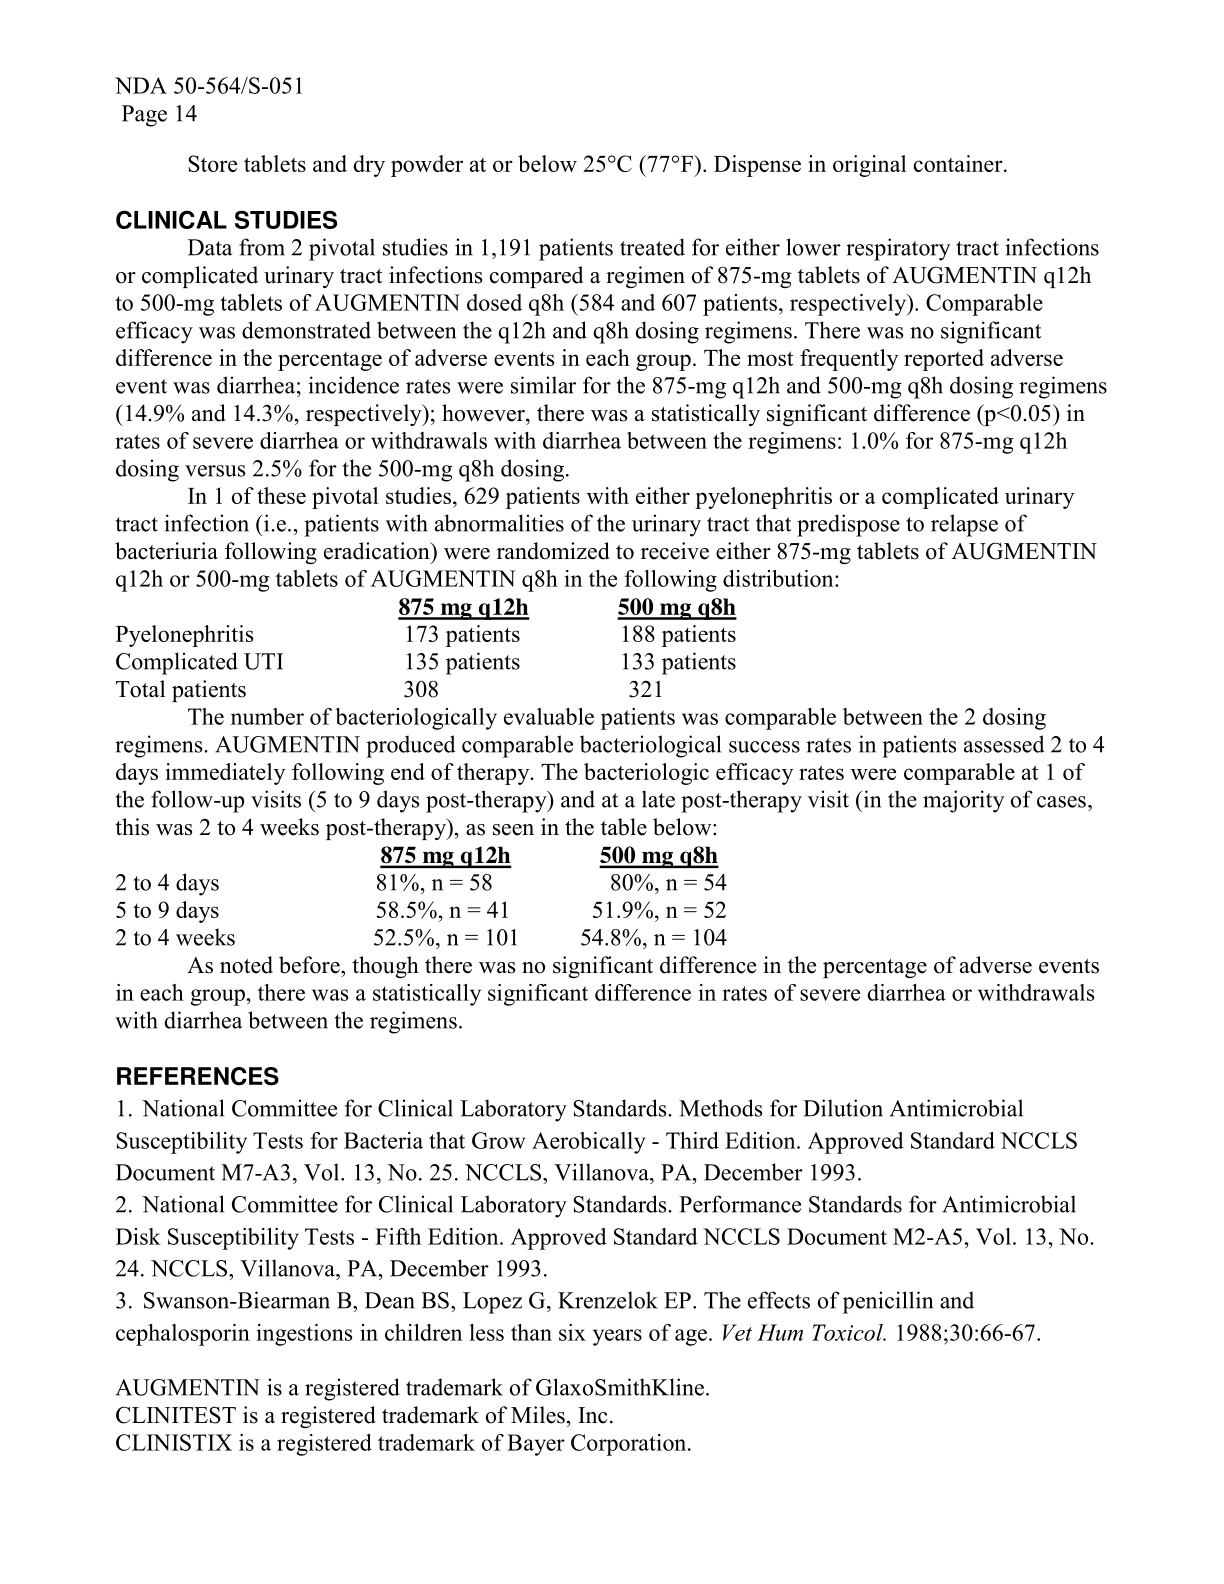nolines: (113, 595, 738, 701), (111, 842, 728, 948)
